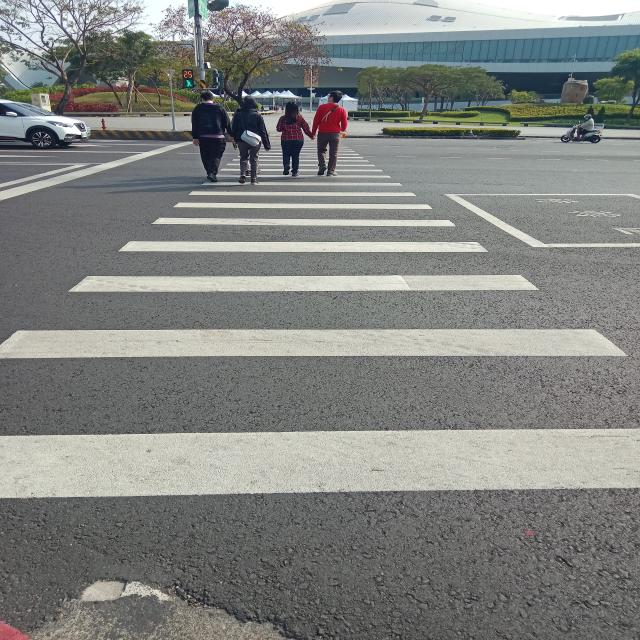person: (192, 91, 232, 181), (232, 96, 270, 185), (312, 91, 347, 176), (277, 101, 313, 178), (577, 114, 595, 140)
zebra crossing: (0, 141, 640, 496)
